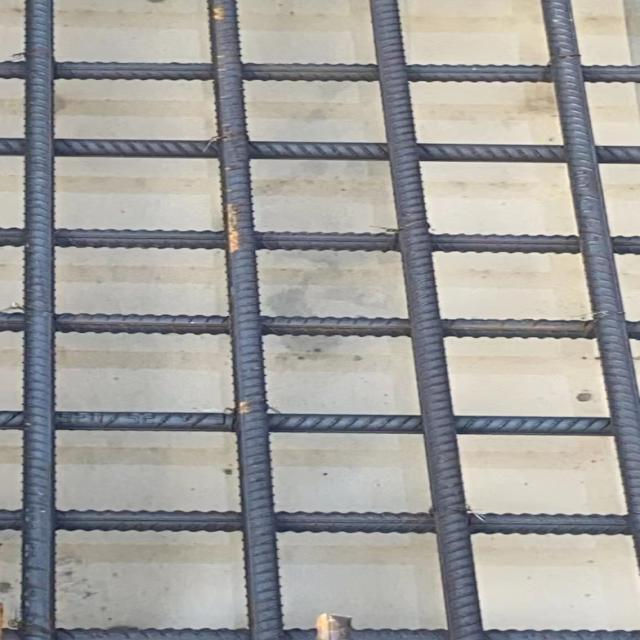ribbed bar: (364, 0, 485, 639), (538, 0, 638, 576), (207, 0, 285, 639), (17, 0, 57, 639), (0, 226, 638, 255), (0, 312, 638, 341), (0, 137, 638, 164), (0, 509, 627, 536), (0, 411, 615, 438), (0, 61, 638, 83), (0, 627, 638, 639)
